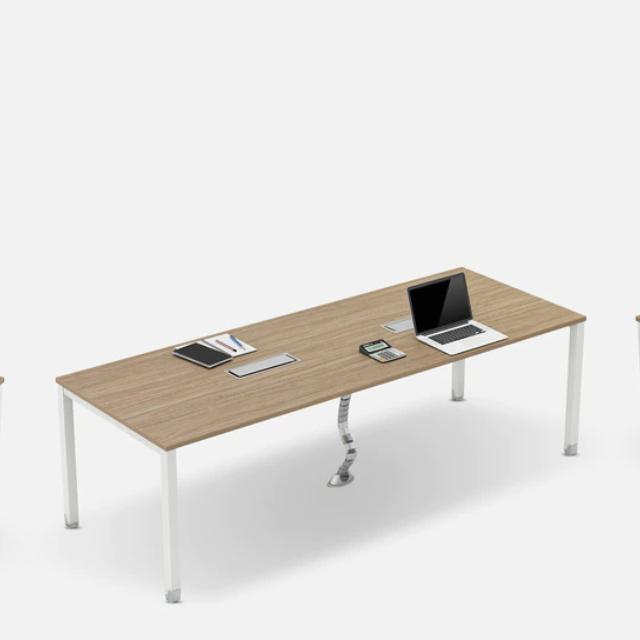obstacle: (38, 214, 610, 592), (610, 214, 640, 591), (0, 214, 20, 591)
